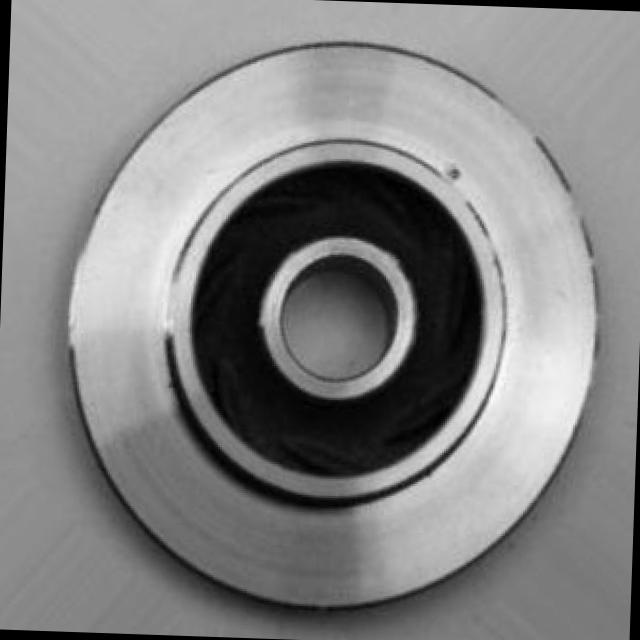Defect: (442, 158, 469, 185)
